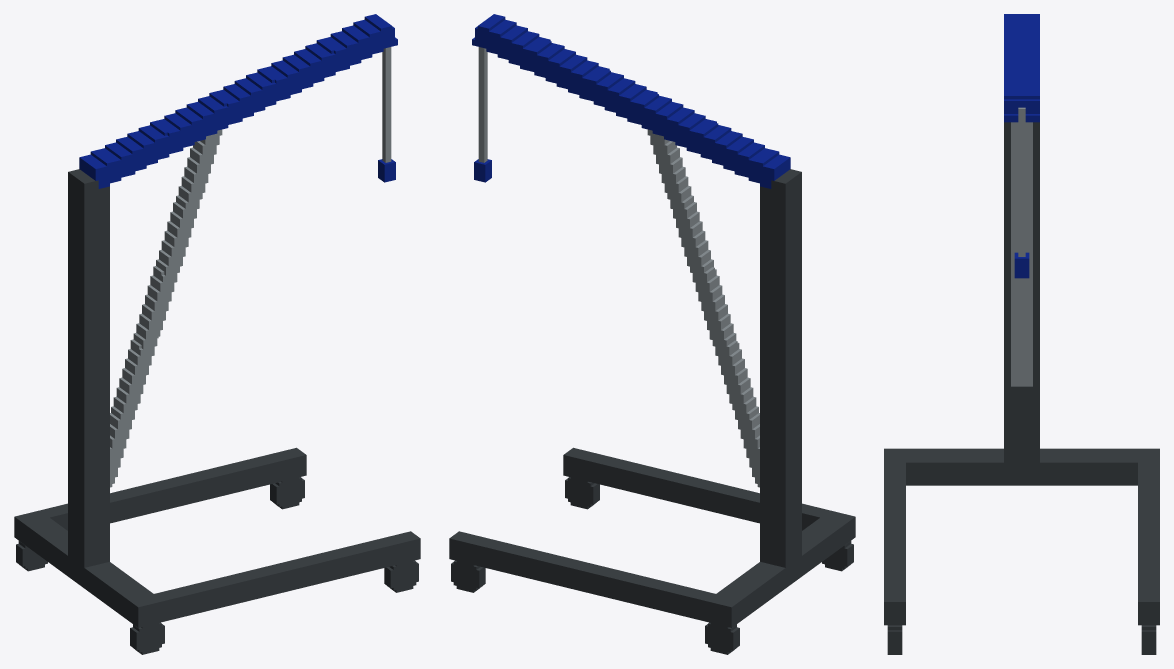
Rendered from engine_hoist.glb.
The picture shows the model from 3 angles, left to right: view 1: azimuth 30°, elevation 25°; view 2: azimuth 150°, elevation 25°; view 3: azimuth 270°, elevation 25°; orthographic projection. The views are drawn at different scales.
Parts seen in each view (by area): view 1: jack:engineHoist; view 2: jack:engineHoist; view 3: jack:engineHoist.
Part boxes in pixels (x1=…): jack:engineHoist: x1=14, y1=14, x2=420, y2=654; jack:engineHoist: x1=449, y1=14, x2=855, y2=654; jack:engineHoist: x1=884, y1=14, x2=1159, y2=654.
Bounding box in the file's own units: 1.12 × 1.75 × 0.76.
